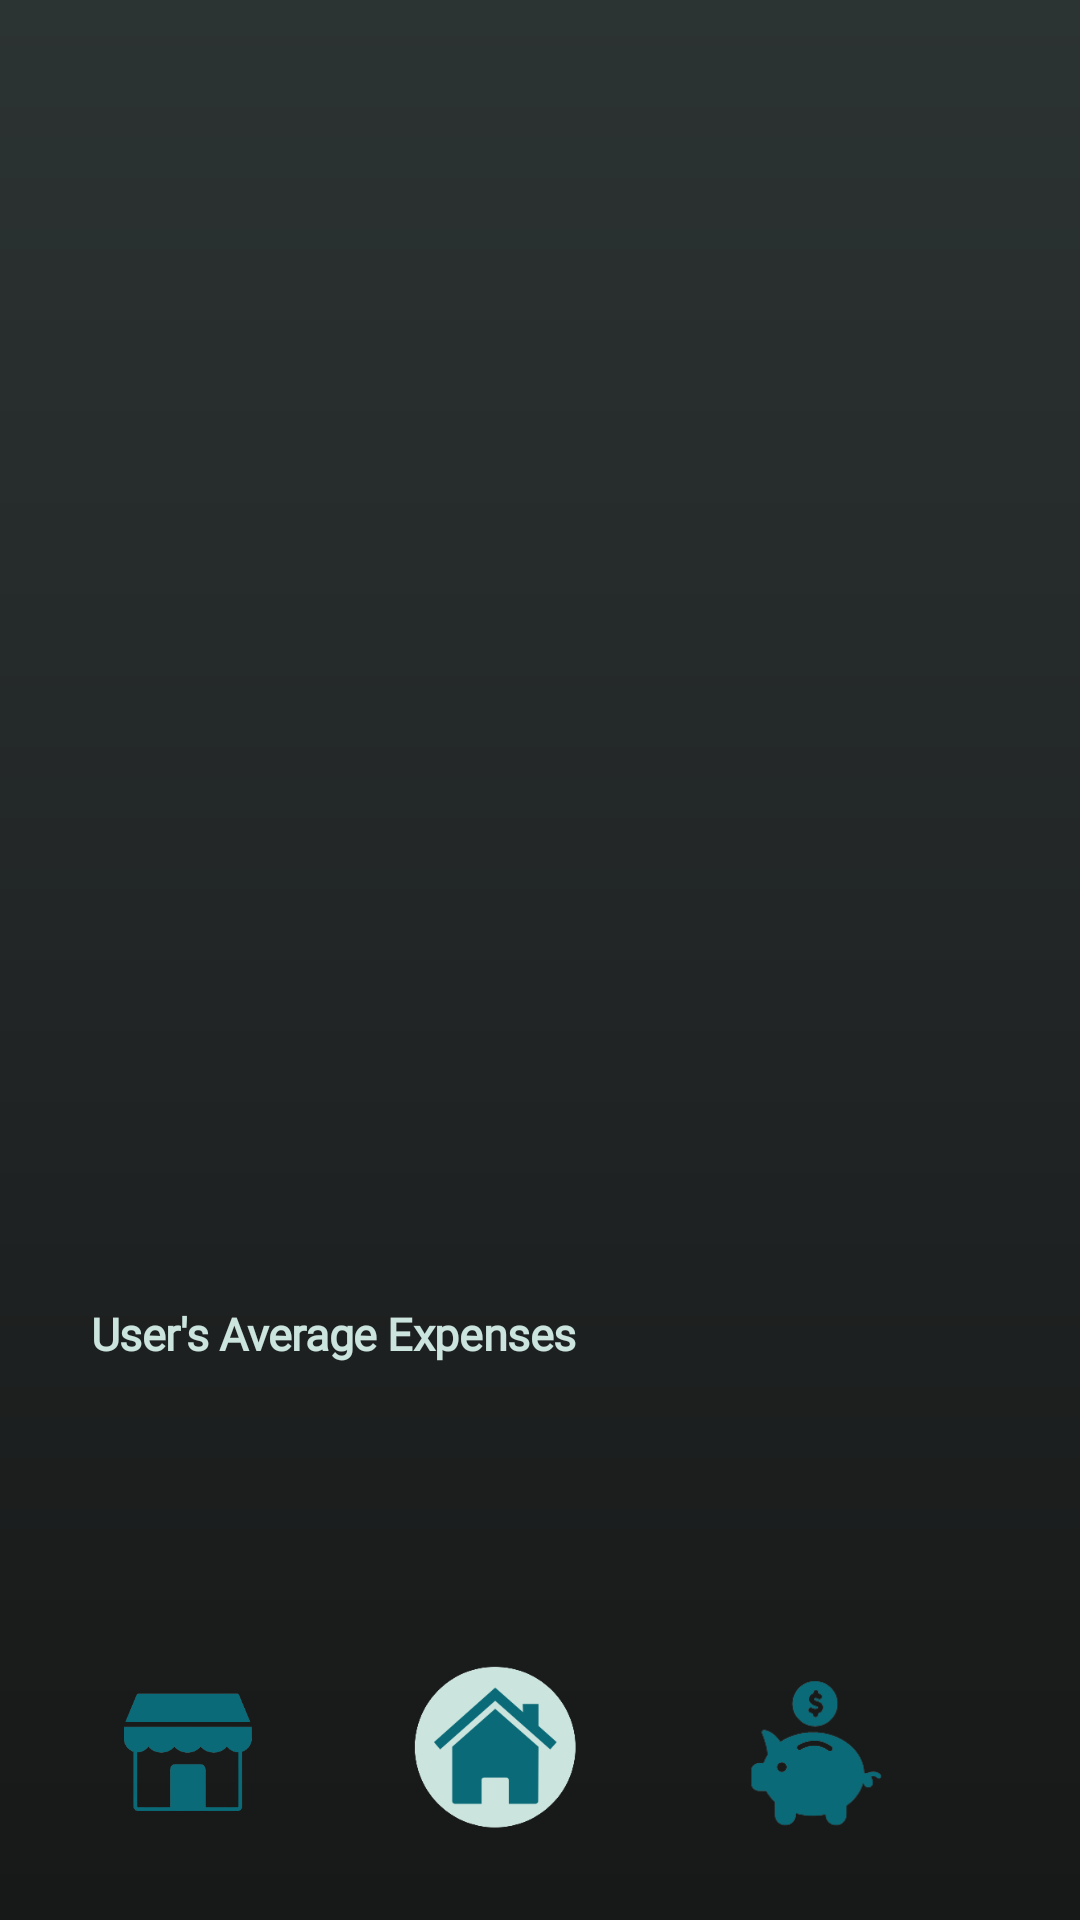

Where icons sit on this 1080 × 1920 app screen, as bbox=[x1, y1, x2, y2]:
homeicon: bbox=[414, 1666, 576, 1828]
marketplaceicon: bbox=[124, 1693, 252, 1811]
savingsicon: bbox=[751, 1681, 881, 1825]
